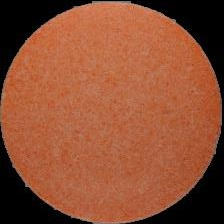50111-328: (0, 0, 224, 224)
